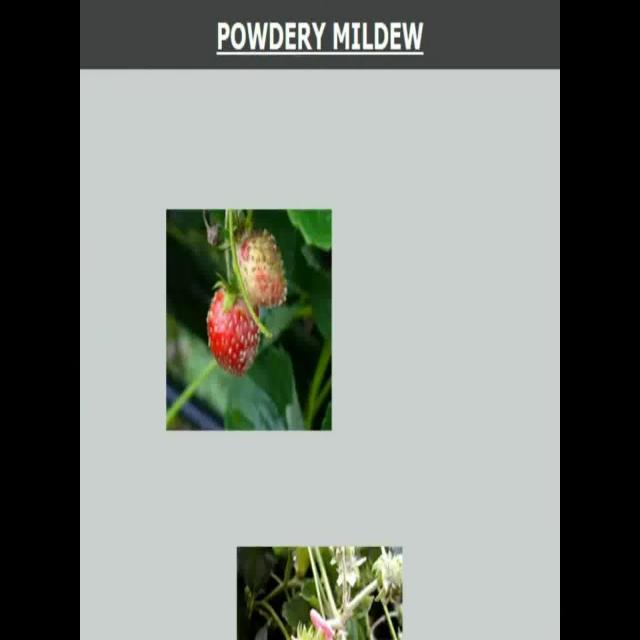Oído: (202, 290, 256, 388), (240, 217, 294, 312)
